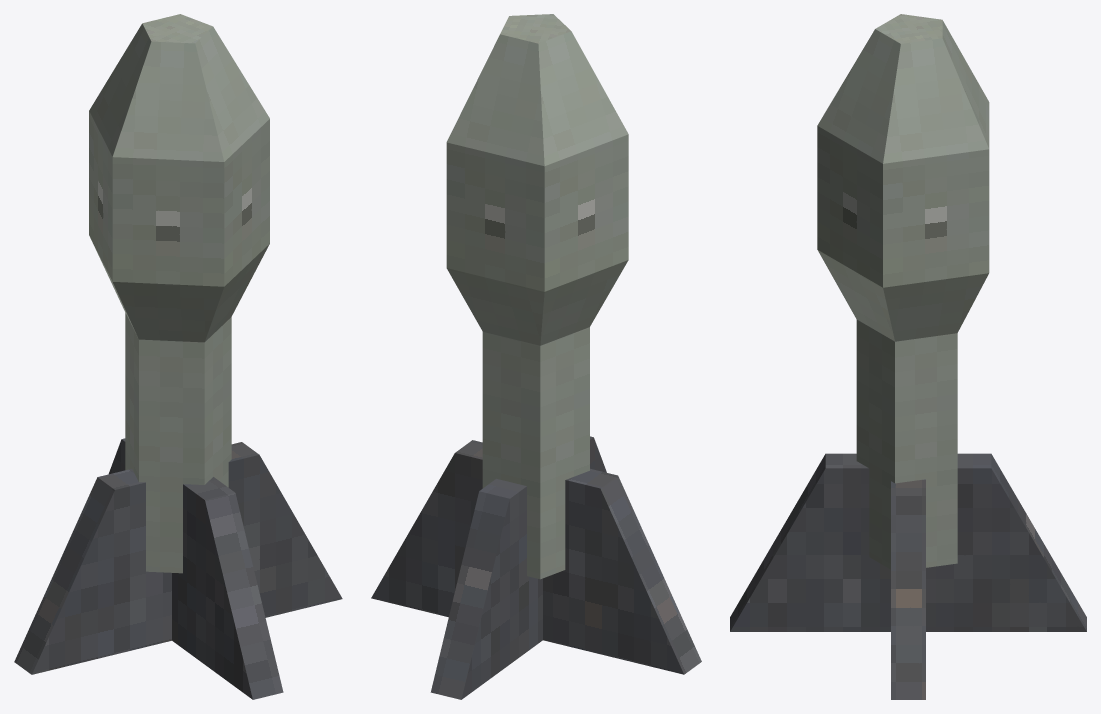
Rendered from rocket.glb.
3 views of the same model, side by side, from view 1: azimuth 30°, elevation 25°; view 2: azimuth 150°, elevation 25°; view 3: azimuth 270°, elevation 25° (orthographic).
Parts seen in each view (by area): view 1: Rocket; view 2: Rocket; view 3: Rocket.
Part boxes in pixels (bbox=[...]): Rocket: bbox=[14, 14, 342, 699]; Rocket: bbox=[371, 14, 701, 699]; Rocket: bbox=[730, 14, 1086, 699].
Bounding box in the file's own units: 0.5255 × 0.9677 × 0.5255.
Materials: 1 (1 with a texture image).
